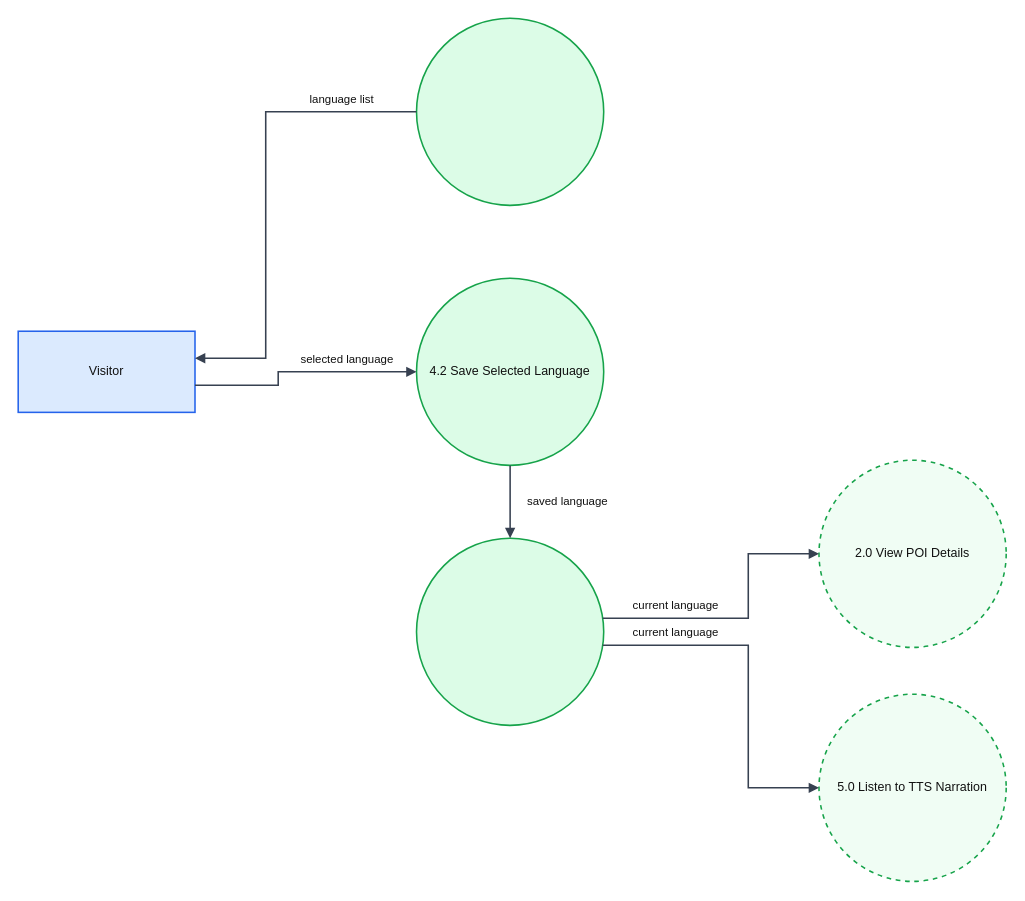
Some shapes in this 1025 by 901 pixel diagram are drawn without their labels. Here are the shapes that lost their labels. From the top down, the box of each, then its label:
(415, 17, 604, 206): 4.1 Display Supported Languages
(415, 537, 604, 726): 4.3 Apply Language to Content
